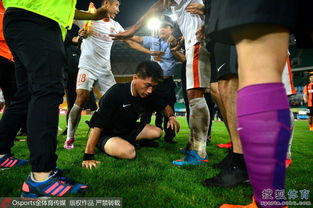10+: (1, 1, 313, 200)
down: (82, 63, 183, 172)
